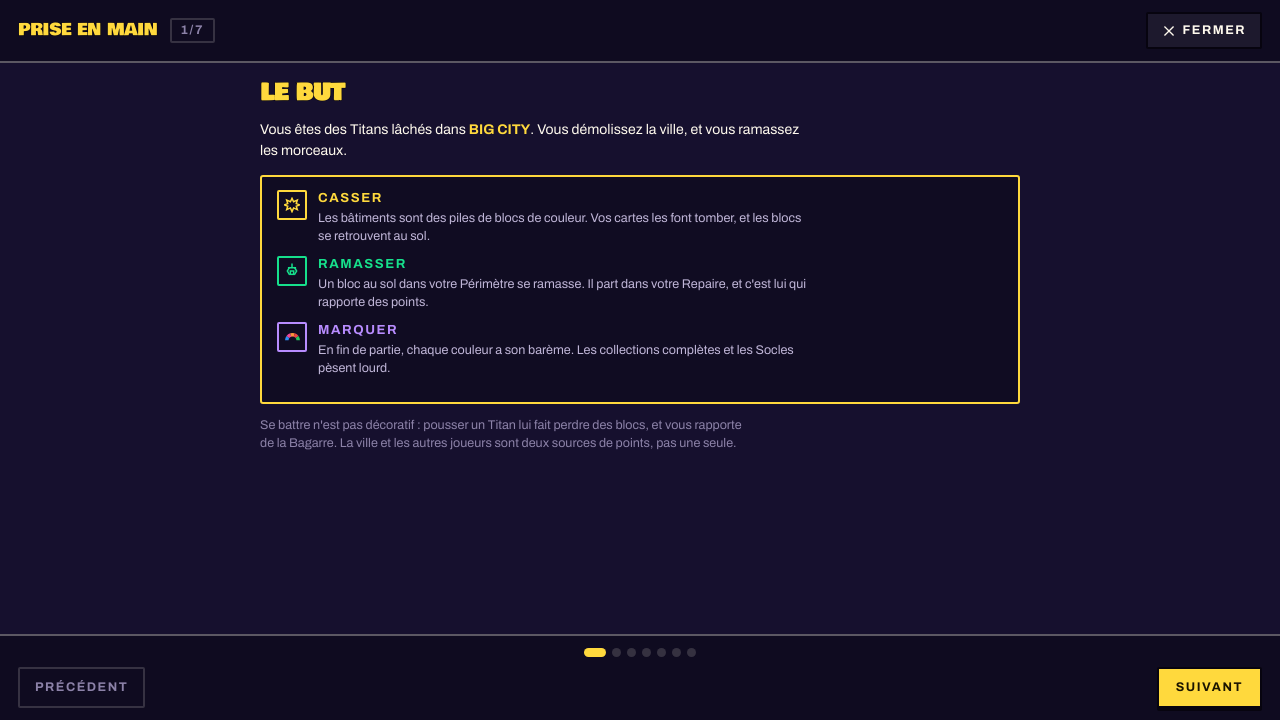
Test: La prise en main n'invente pas de vocabulaire › les trois phases sont celles du bandeau de partie, mot et couleur
This screenshot has width=1280, height=720.
Écran 2 sur 7 : « Une Manche ».
Click the button named "Une Manche". click: point(616, 652)
box: [612,648,621,657]
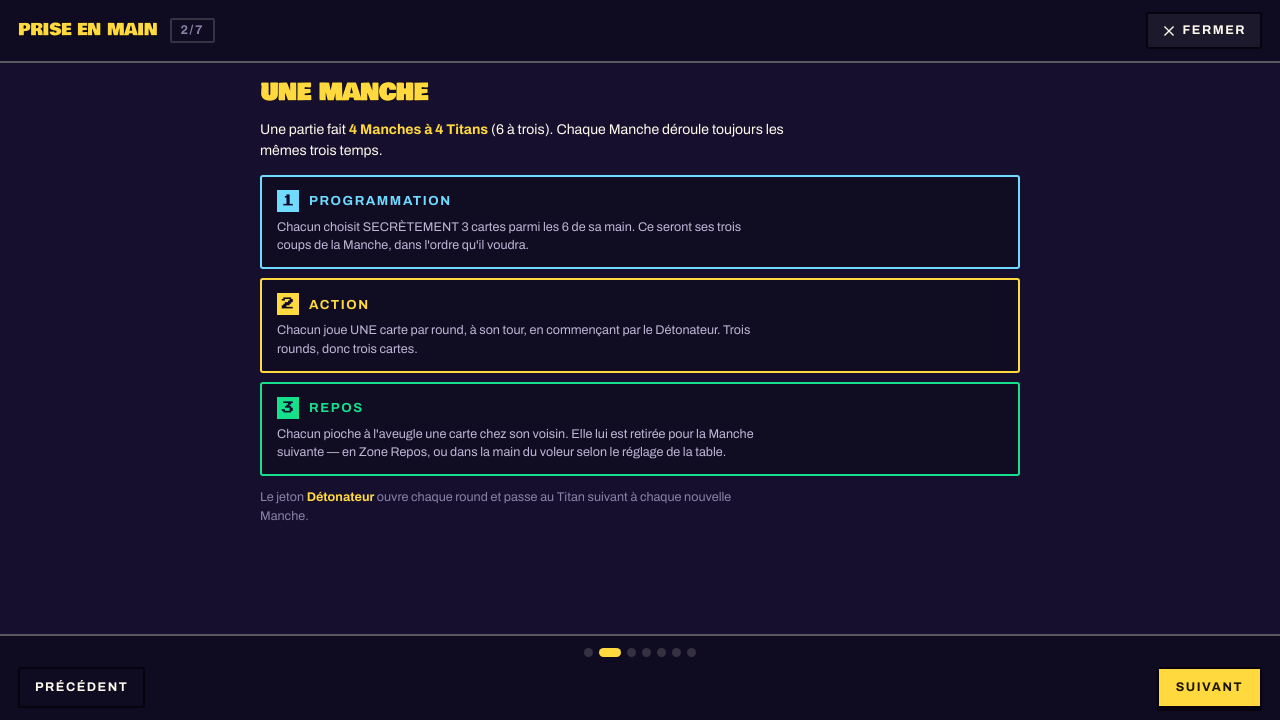
Check: the text "Programmation" is shown, box [309,193,452,209]
Check: the text "Action" is shown, box [309,297,370,312]
Check: the text "Repos" is shown, box [309,400,364,416]
